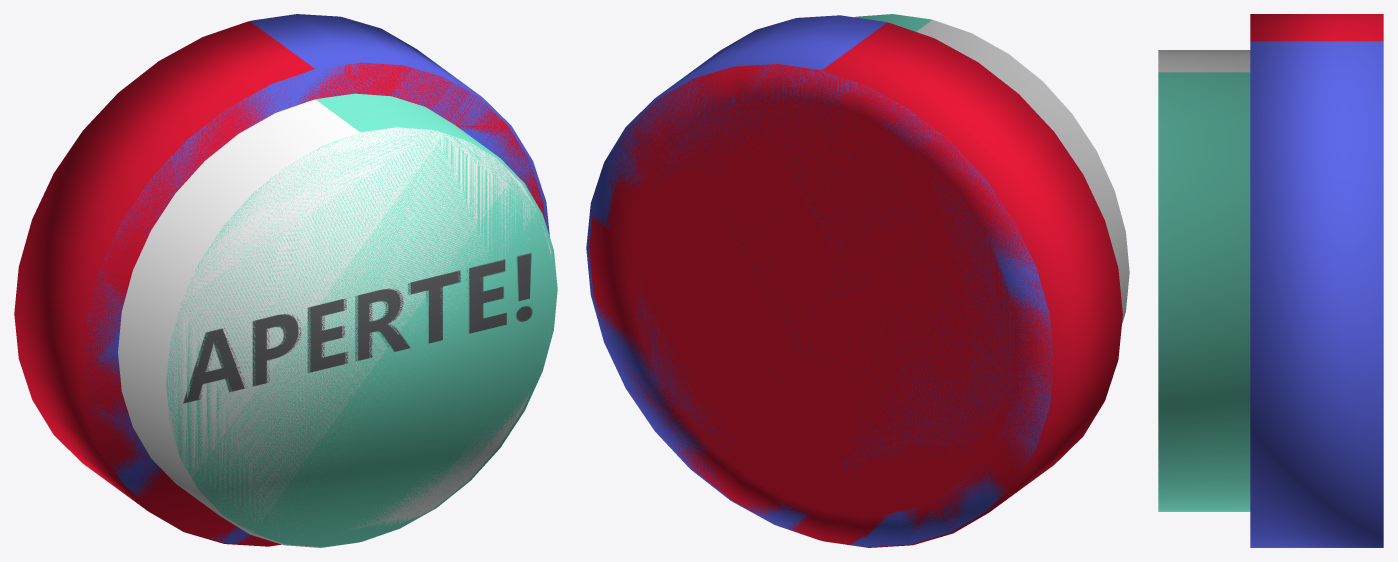
File: Botão_Azul.glb
The picture shows the model from 3 angles, left to right: view 1: azimuth 30°, elevation 25°; view 2: azimuth 150°, elevation 25°; view 3: azimuth 270°, elevation 25°; orthographic projection.
Visible parts, largest first — view 1: Cylinder, Cylinder.001; view 2: Cylinder, Cylinder.001; view 3: Cylinder.001, Cylinder.
Boxes of the visible parts, x1,y1,x2,y2 form: Cylinder: (14,21,551,547); Cylinder.001: (83,14,557,547); Cylinder: (589,20,1129,547); Cylinder.001: (586,14,1053,547); Cylinder.001: (1158,41,1383,547); Cylinder: (1158,14,1383,72).
Bounding box in the file's own units: 1.38 × 1.32 × 0.5605.
4 materials, 2 textured.
